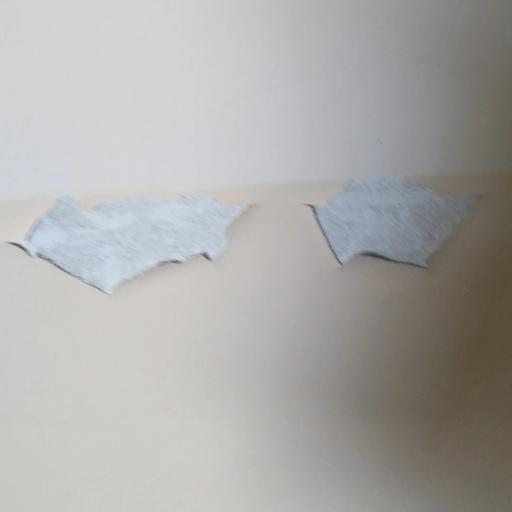peeling: (0, 168, 254, 314), (298, 154, 510, 288)
